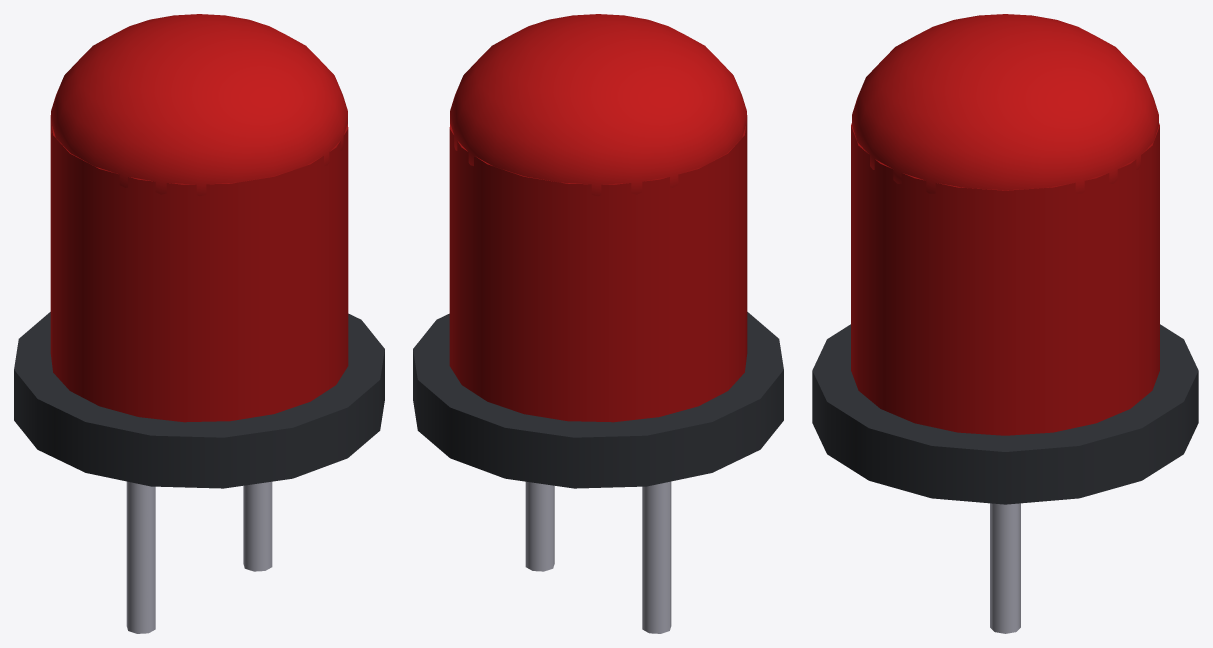
3 renders of one model, left to right at view 1: azimuth 30°, elevation 25°; view 2: azimuth 150°, elevation 25°; view 3: azimuth 270°, elevation 25°, orthographic. The views are drawn at different scales.
Visible parts, largest first — view 1: Barrel2, Dome2, Base2, Anode2, Cathode2; view 2: Barrel2, Dome2, Base2, Anode2, Cathode2; view 3: Barrel2, Dome2, Base2, Cathode2.
Part boxes in pixels (box(x1,y1,x2,y2)): Barrel2: box(50, 115, 348, 422); Dome2: box(51, 14, 347, 196); Base2: box(14, 312, 384, 488); Anode2: box(126, 481, 155, 633); Cathode2: box(243, 481, 272, 571); Barrel2: box(449, 115, 747, 422); Dome2: box(450, 14, 746, 196); Base2: box(413, 312, 783, 488); Anode2: box(642, 481, 671, 633); Cathode2: box(525, 481, 554, 571); Barrel2: box(851, 123, 1159, 435); Dome2: box(852, 14, 1158, 193); Base2: box(812, 324, 1198, 504); Cathode2: box(990, 503, 1020, 633).
Size of the model in its own units: 0.1 by 0.171 by 0.1.
